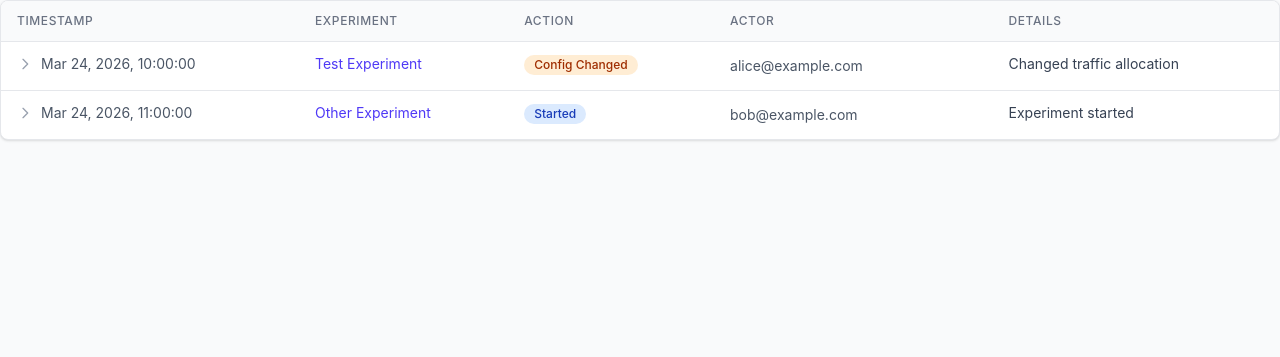
Test case: AuditLogTable Copy Buttons › renders copy buttons when expanded
The width and height of the screenshot is (1280, 357).
Expected: the text "Experiment ID:" is not shown
Note: Expand the first row
Click the button with test id "audit-row-audit-001": (640, 66) [1,42,1279,90]
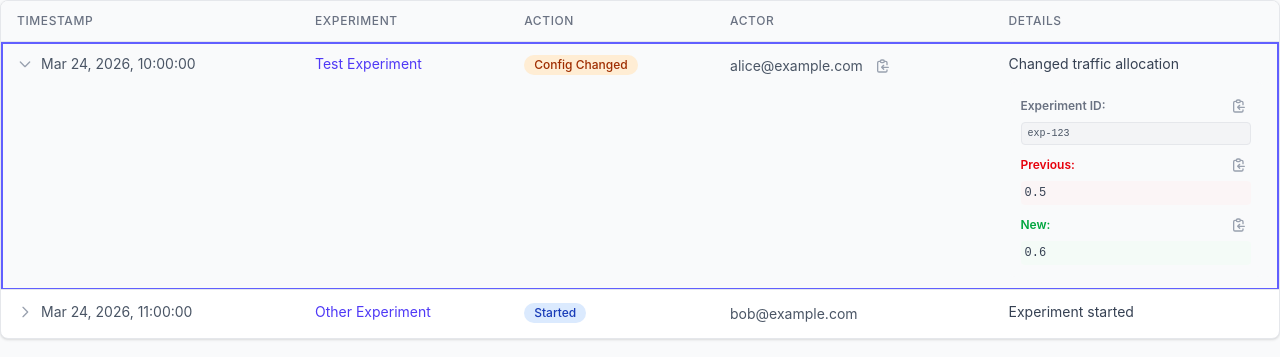
Expected: the text "Experiment ID:" is shown, [1020,98,1106,114]
Expected: the text "exp-123" is shown, [1020,122,1251,145]
Expected: the button named "Copy experiment ID" is shown, [1227,94,1251,118]
